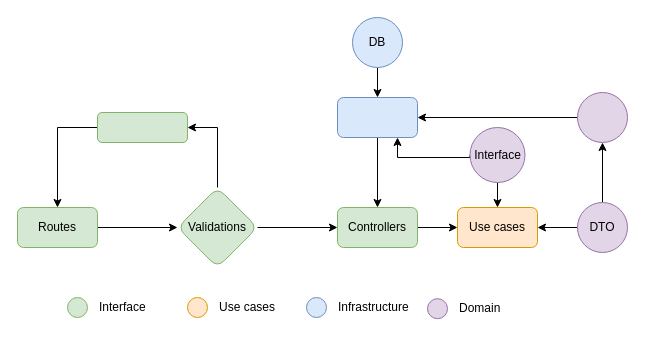
Image size: 645x337. Some labels were removed from this diagram. Here are the shapes that lost their labels. From the top down, the box of each, then its label:
(96, 112, 188, 142): Error handler
(336, 96, 418, 138): Adapters
(576, 92, 628, 142): Entities
